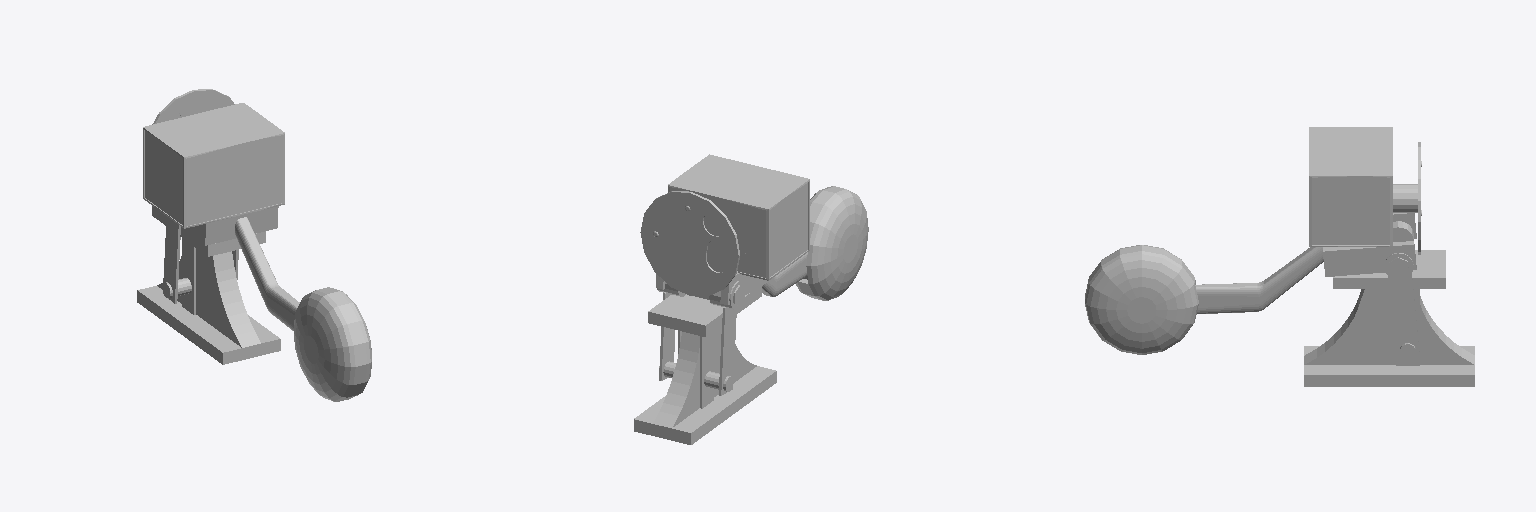
File: shuntsignalgreen.obj
The picture shows the model from 3 angles: view 1: azimuth 30°, elevation 25°; view 2: azimuth 150°, elevation 25°; view 3: azimuth 270°, elevation 25°; orthographic projection.
Parts seen in each view (by area): view 1: OFF_SIGNAL_Cube.001_Cube.007; view 2: OFF_SIGNAL_Cube.001_Cube.007; view 3: OFF_SIGNAL_Cube.001_Cube.007.
Part boxes in pixels (left/top/right/bottom): OFF_SIGNAL_Cube.001_Cube.007: left=137, top=89, right=371, bottom=401; OFF_SIGNAL_Cube.001_Cube.007: left=634, top=154, right=868, bottom=444; OFF_SIGNAL_Cube.001_Cube.007: left=1085, top=127, right=1474, bottom=386.
Size of the model in its own units: 0.5456 by 1.03 by 1.62.